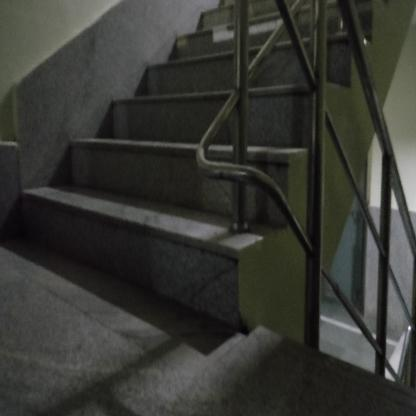stairs: (110, 97, 195, 306)
